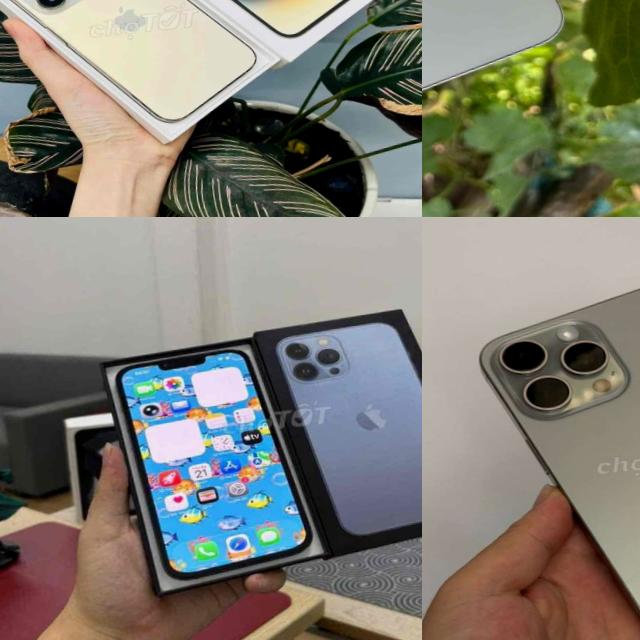gen_12_13: (108, 334, 317, 584)
gen_14: (0, 0, 265, 140), (422, 0, 576, 119)
gen_15: (461, 249, 640, 640)
